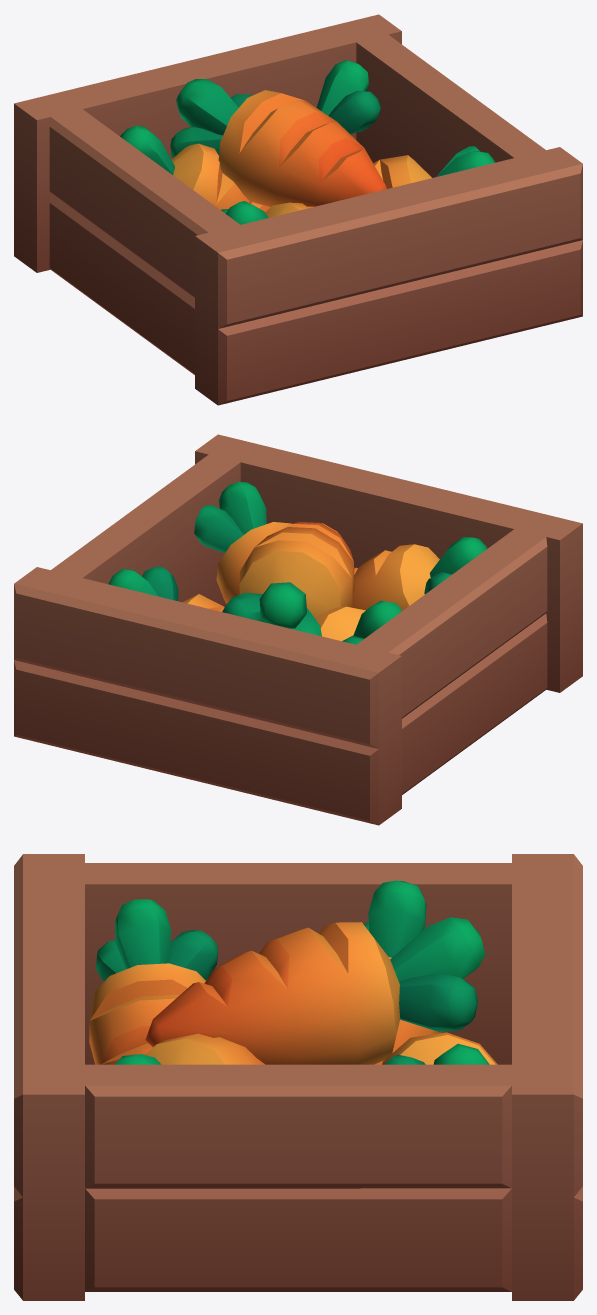
File: crate_carrots.obj
3 renders of one model, top to bottom at view 1: azimuth 30°, elevation 25°; view 2: azimuth 150°, elevation 25°; view 3: azimuth 270°, elevation 25°, orthographic. The views are drawn at different scales.
Parts seen in each view (by area): view 1: crate_carrots_Cube.229; view 2: crate_carrots_Cube.229; view 3: crate_carrots_Cube.229.
Boxes of the visible parts, x1,y1,x2,y2 form: crate_carrots_Cube.229: (14, 14, 582, 405); crate_carrots_Cube.229: (14, 434, 582, 825); crate_carrots_Cube.229: (14, 854, 582, 1300).
Size of the model in its own units: 2 by 0.9432 by 2.
Materials: 1 (1 with a texture image).
